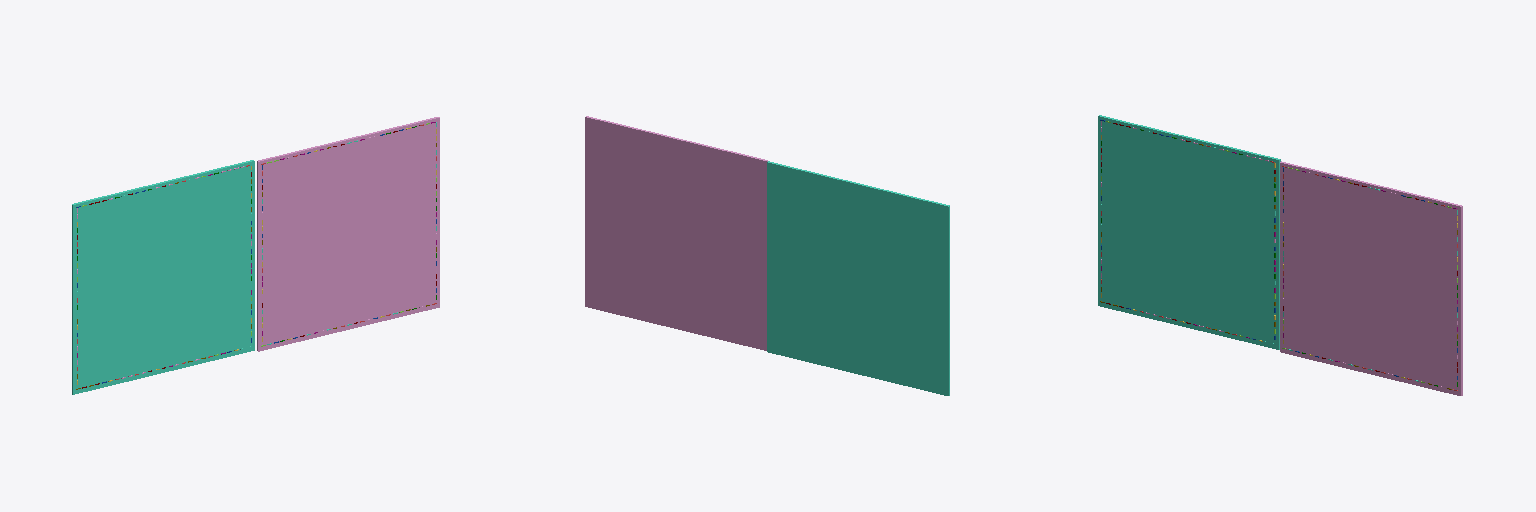
File: placa.obj
3 renders of one model, left to right at view 1: azimuth 30°, elevation 25°; view 2: azimuth 150°, elevation 25°; view 3: azimuth 330°, elevation 25°, orthographic.
Parts seen in each view (by area): view 1: placa_couro_pespontado_003, placa_couro_pespontado_001; view 2: placa_couro_pespontado_001, placa_couro_pespontado_003; view 3: placa_couro_pespontado_003, placa_couro_pespontado_001.
Boxes of the visible parts, <box> form: placa_couro_pespontado_003: <box>257,117,439,351</box>; placa_couro_pespontado_001: <box>72,160,254,394</box>; placa_couro_pespontado_001: <box>767,161,949,395</box>; placa_couro_pespontado_003: <box>585,116,767,350</box>; placa_couro_pespontado_003: <box>1280,161,1462,395</box>; placa_couro_pespontado_001: <box>1098,115,1280,349</box>.
Bounding box in the file's own units: 27.72 × 13.82 × 0.4736.